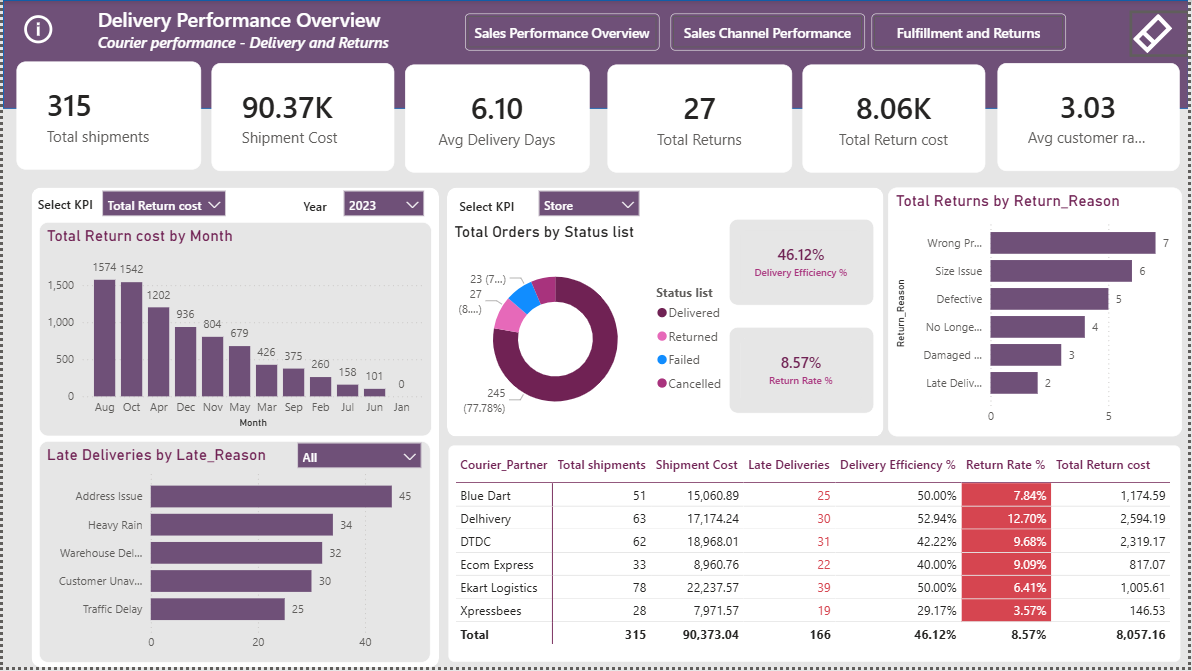

The page's visual inventory and layout, read from the dashboard file:
{"tool":"powerbi","page":{"name":"Page 3","canvas":[1280,720],"ordinal":2},"visuals":[{"type":"shape","box":[0,0,1280,117.5],"z":0},{"type":"textbox","box":[97.2,0,327.1,69.6],"z":1000},{"type":"actionButton","box":[498.3,15,210,40],"z":2000},{"type":"actionButton","box":[720,15,210,40],"z":3000},{"type":"cardVisual","fields":{"Data":["Measure table.Total shipments"]},"box":[14.6,66.4,199.2,116.6],"z":4000},{"type":"cardVisual","fields":{"Data":["Measure table.Shipment Cost"]},"box":[225.1,68,197.5,116.6],"z":5000},{"type":"cardVisual","fields":{"Data":["Date Table.Avg Delivery Days"]},"box":[434,69.6,199.2,116.6],"z":6000},{"type":"cardVisual","fields":{"Data":["Date Table.Total Returns"]},"box":[652.5,69.6,199.2,116.6],"z":7000},{"type":"cardVisual","fields":{"Data":["Date Table.Total Return cost"]},"box":[863,69.6,197.5,116.6],"z":8000},{"type":"cardVisual","fields":{"Data":["Date Table.Avg customer rating"]},"box":[1073.3,68.3,196.7,116.7],"z":9000},{"type":"shape","box":[30,202.2,440,517.8],"z":10000},{"type":"slicer","fields":{"Values":["Delivery efficency Parameter.Delivery efficency Parameter"]},"box":[96.7,195.6,153.3,41.1],"z":11000},{"type":"columnChart","fields":{"Y":["Date Table.Total Return cost"],"Category":["Date Table.Month"]},"box":[38.9,239.6,424.2,231.5],"z":12000},{"type":"slicer","fields":{"Values":["Date Table.Date.Variation.Date Hierarchy.Year"]},"box":[357.8,196.7,106.7,45.6],"z":13000},{"type":"textbox","box":[32.2,205.6,74.4,30],"z":14000},{"type":"textbox","box":[318.9,206.7,38.9,28.9],"z":15000},{"type":"shape","box":[478.9,202.2,471.1,268.9],"z":16000},{"type":"donutChart","fields":{"Category":["orders_fact_table.Status list"],"Y":["Measure table.Total Orders"]},"box":[487.8,238.9,297.8,227.8],"z":17000},{"type":"cardVisual","fields":{"Data":["Date Table.Delivery Efficiency %"]},"box":[784.4,236.7,156.7,93.3],"z":18000},{"type":"cardVisual","fields":{"Data":["Date Table.Return Rate %"]},"box":[784.4,353.3,156.7,93.3],"z":19000},{"type":"slicer","fields":{"Values":["orders_fact_table.Sales channel"]},"box":[567.8,195.6,128.9,41.1],"z":20000},{"type":"textbox","box":[487.8,206.7,74.4,30],"z":21000},{"type":"barChart","fields":{"Category":["orders_fact_table.Return_Reason"],"Y":["Date Table.Total Returns"]},"box":[955.3,202.4,317.4,268.8],"z":22000},{"type":"actionButton","box":[938.3,15,210,40],"z":23000},{"type":"barChart","fields":{"Category":["orders_fact_table.Late_Reason"],"Y":["Date Table.Late Deliveries"]},"box":[38.9,476.1,422.6,239.6],"z":24000},{"type":"slicer","fields":{"Values":["orders_fact_table.Courier_Partner"]},"box":[307.7,468,153.8,40.5],"z":25000},{"type":"pivotTable","fields":{"Rows":["orders_fact_table.Courier_Partner"],"Values":["Measure table.Total shipments","Measure table.Shipment Cost","Date Table.Late Deliveries","Date Table.Delivery Efficiency %","Date Table.Return Rate %","Date Table.Total Return cost"]},"box":[480.9,480.9,790.2,233.2],"z":26000},{"type":"actionButton","box":[17.8,11.3,53.4,40.5],"z":27000},{"type":"actionButton","box":[1216,11.3,64.8,50.2],"z":28000}]}

Visuals, with their boxes in screenshot pixels (x1, y1, x2, y2), scaled from the page's 1280x720 canvas onto the 1192x671 screenshot:
shape: <bbox>0, 0, 1191, 110</bbox>
textbox: <bbox>91, 0, 395, 65</bbox>
actionButton: <bbox>464, 14, 660, 51</bbox>
actionButton: <bbox>670, 14, 866, 51</bbox>
cardVisual - Measure table.Total shipments: <bbox>14, 62, 199, 171</bbox>
cardVisual - Measure table.Shipment Cost: <bbox>210, 63, 394, 172</bbox>
cardVisual - Date Table.Avg Delivery Days: <bbox>404, 65, 590, 174</bbox>
cardVisual - Date Table.Total Returns: <bbox>608, 65, 793, 174</bbox>
cardVisual - Date Table.Total Return cost: <bbox>804, 65, 988, 174</bbox>
cardVisual - Date Table.Avg customer rating: <bbox>1000, 64, 1183, 172</bbox>
shape: <bbox>28, 188, 438, 670</bbox>
slicer - Delivery efficency Parameter.Delivery efficency Parameter: <bbox>90, 182, 233, 221</bbox>
columnChart - Date Table.Total Return cost x Date Table.Month: <bbox>36, 223, 431, 439</bbox>
slicer - Date Table.Date.Variation.Date Hierarchy.Year: <bbox>333, 183, 433, 226</bbox>
textbox: <bbox>30, 192, 99, 220</bbox>
textbox: <bbox>297, 193, 333, 220</bbox>
shape: <bbox>446, 188, 885, 439</bbox>
donutChart - orders_fact_table.Status list x Measure table.Total Orders: <bbox>454, 223, 732, 435</bbox>
cardVisual - Date Table.Delivery Efficiency %: <bbox>730, 221, 876, 308</bbox>
cardVisual - Date Table.Return Rate %: <bbox>730, 329, 876, 416</bbox>
slicer - orders_fact_table.Sales channel: <bbox>529, 182, 649, 221</bbox>
textbox: <bbox>454, 193, 524, 221</bbox>
barChart - orders_fact_table.Return_Reason x Date Table.Total Returns: <bbox>890, 189, 1185, 439</bbox>
actionButton: <bbox>874, 14, 1069, 51</bbox>
barChart - orders_fact_table.Late_Reason x Date Table.Late Deliveries: <bbox>36, 444, 430, 667</bbox>
slicer - orders_fact_table.Courier_Partner: <bbox>287, 436, 430, 474</bbox>
pivotTable - orders_fact_table.Courier_Partner x Measure table.Total shipments: <bbox>448, 448, 1184, 666</bbox>
actionButton: <bbox>17, 11, 66, 48</bbox>
actionButton: <bbox>1132, 11, 1191, 57</bbox>
